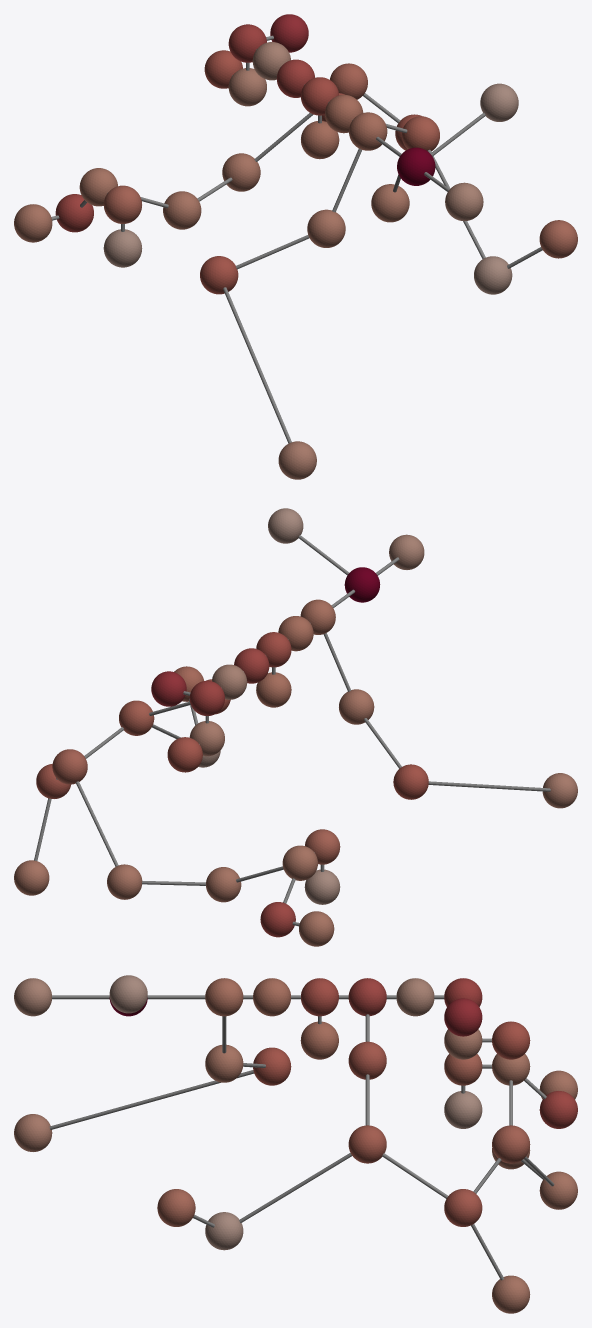
File: Figure_2_input.glb
3 views of the same model, one above another, from view 1: azimuth 30°, elevation 25°; view 2: azimuth 150°, elevation 25°; view 3: azimuth 270°, elevation 25° (orthographic). The views are drawn at different scales.
Visible parts, largest first — view 1: world; view 2: world; view 3: world.
Part boxes in pixels (x1,y1,x2,y2): world: (14,14,577,479); world: (14,508,577,946); world: (14,975,577,1313).
Size of the model in its own units: 8.8 by 6.8 by 11.8.
